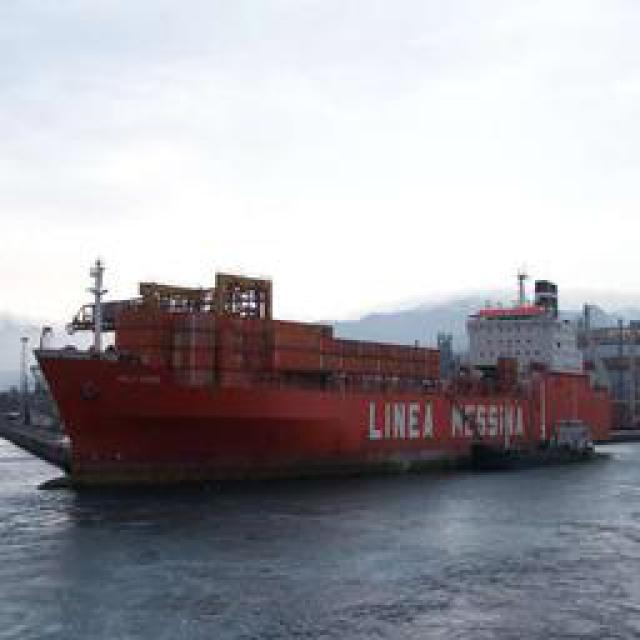Ship: (20, 282, 623, 490)
